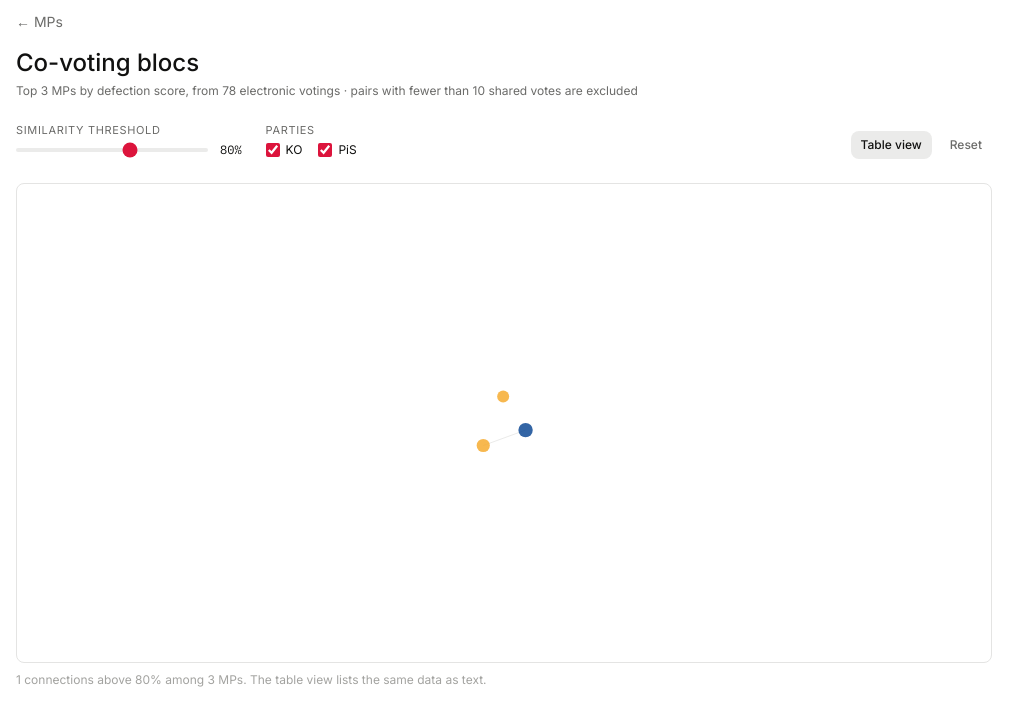
Test: BlocsPage (§3.3) › offers the text-table alternative view with the same pairs (§3.3 a11y)
Expected: the slider labelled "Similarity threshold" is shown, [16,148,208,152]
Click the button "Table view".
click(891, 145)  # box [850,131,932,159]
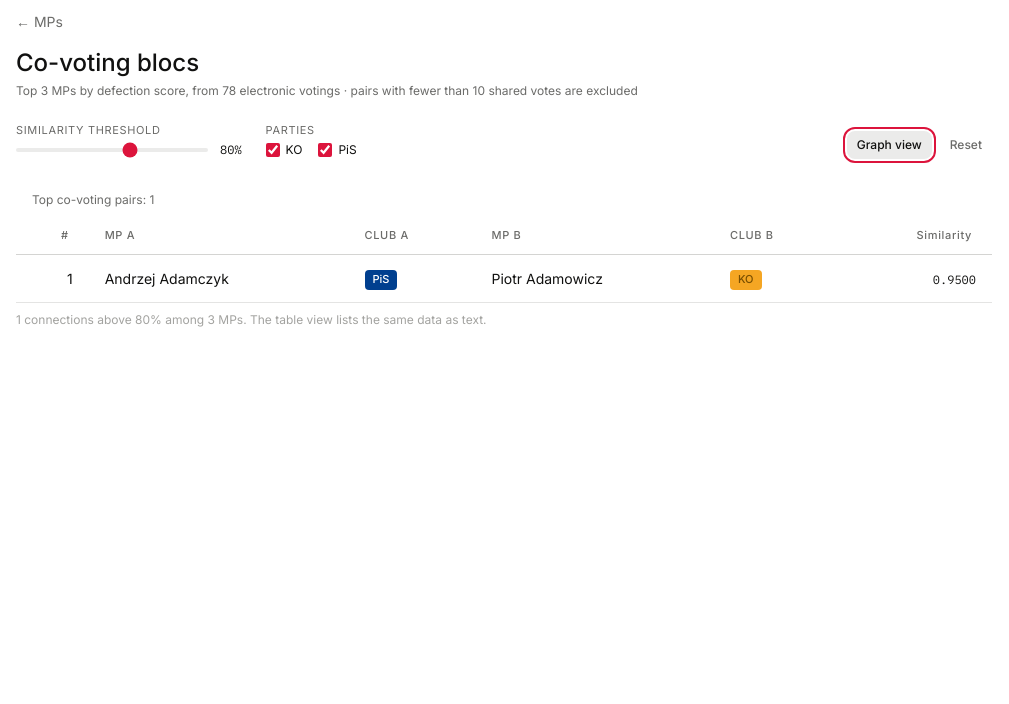
Now the table is shown, box [16,183,992,303]
Now the text "Andrzej Adamczyk" is shown, box [89,255,348,302]
Now the text "0.9500" is shown, box [933,272,976,287]
